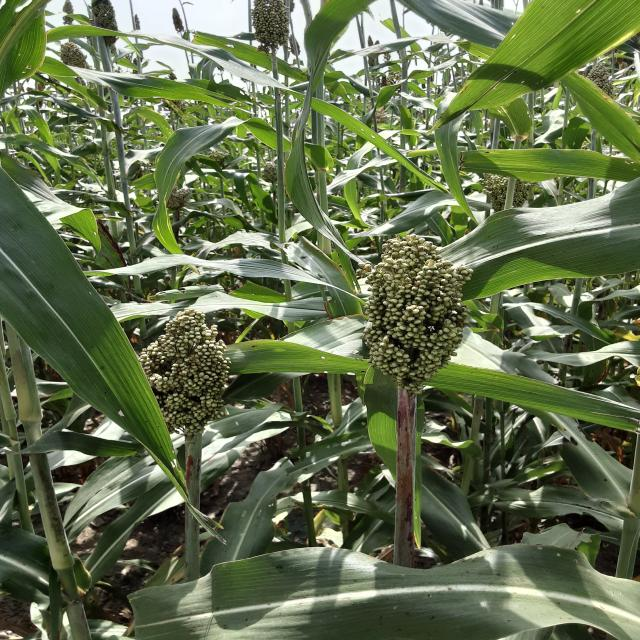UnripeSorghum: (342, 225, 501, 408), (97, 294, 261, 428)
